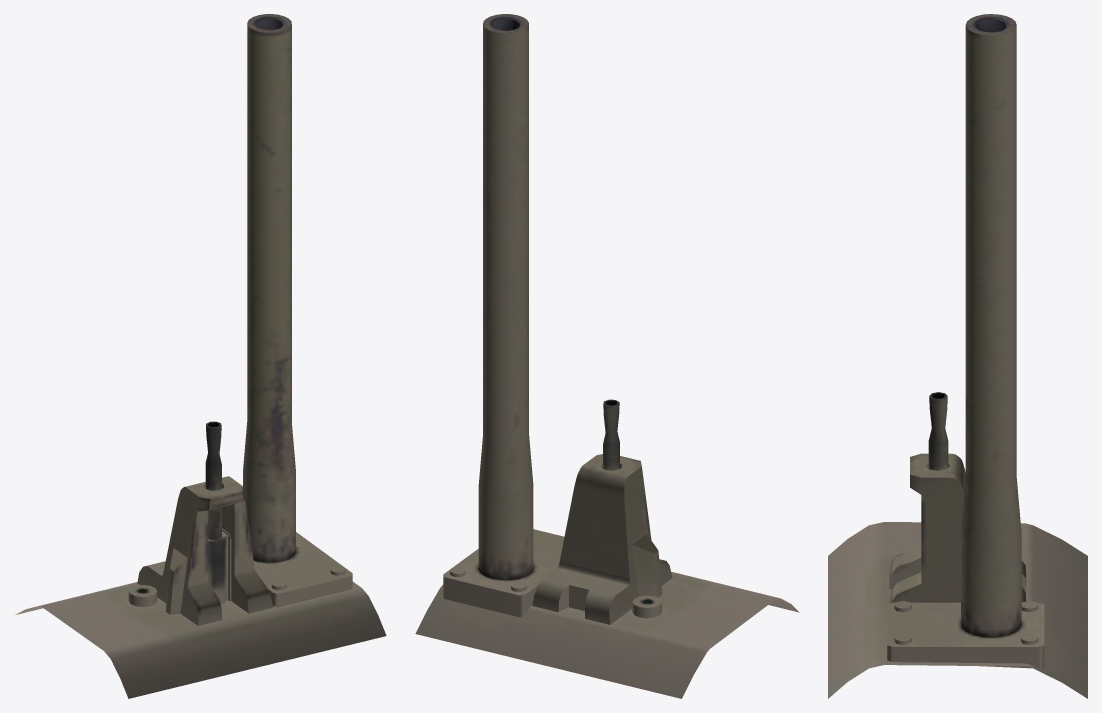
The model's file is Gun_01.glb.
The picture shows the model from 3 angles, left to right: view 1: azimuth 30°, elevation 25°; view 2: azimuth 150°, elevation 25°; view 3: azimuth 270°, elevation 25°; orthographic projection. The views are drawn at different scales.
Visible parts, largest first — view 1: set_0_group_0; view 2: set_0_group_0; view 3: set_0_group_0.
Part boxes in pixels (x1,y1,x2,y2): set_0_group_0: (15, 14, 386, 698); set_0_group_0: (415, 14, 799, 698); set_0_group_0: (828, 14, 1087, 698).
Size of the model in its own units: 0.6116 by 1.29 by 0.4689.
1 material, 1 textured.
